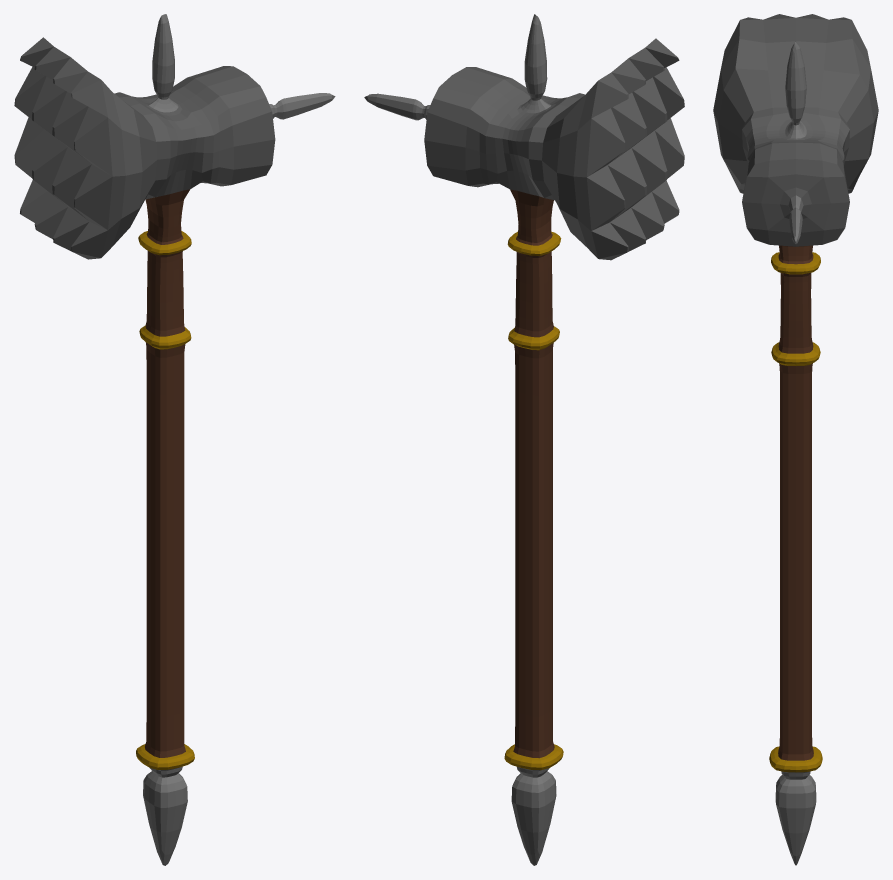
The model's file is Warrior_T2_Weapon.fbx.
The picture shows the model from 3 angles, left to right: view 1: azimuth 30°, elevation 25°; view 2: azimuth 150°, elevation 25°; view 3: azimuth 270°, elevation 25°; orthographic projection. The views are drawn at different scales.
Parts seen in each view (by area): view 1: Cube; view 2: Cube; view 3: Cube.
Part boxes in pixels (x1,y1,x2,y2): Cube: (14, 14, 335, 865); Cube: (364, 14, 684, 865); Cube: (713, 14, 878, 865).
Size of the model in its own units: 401 by 1119 by 204.
